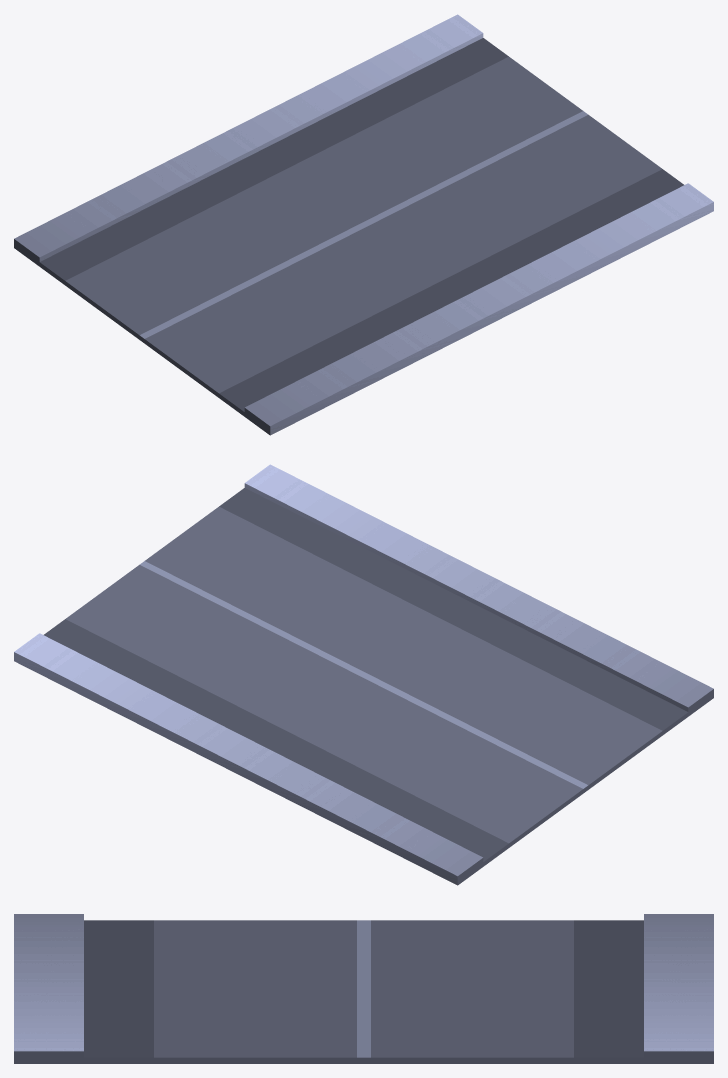
The model's file is road-slant-flat.glb.
The picture shows the model from 3 angles, top to bottom: view 1: azimuth 30°, elevation 25°; view 2: azimuth 150°, elevation 25°; view 3: azimuth 270°, elevation 25°; orthographic projection. The views are drawn at different scales.
Parts seen in each view (by area): view 1: road-slant-flat; view 2: road-slant-flat; view 3: road-slant-flat.
Boxes of the visible parts, box(x1,y1,x2,y2) form: road-slant-flat: box(14, 14, 713, 435); road-slant-flat: box(14, 464, 713, 885); road-slant-flat: box(14, 914, 713, 1063).
Size of the model in its own units: 1 by 0.27 by 1.
